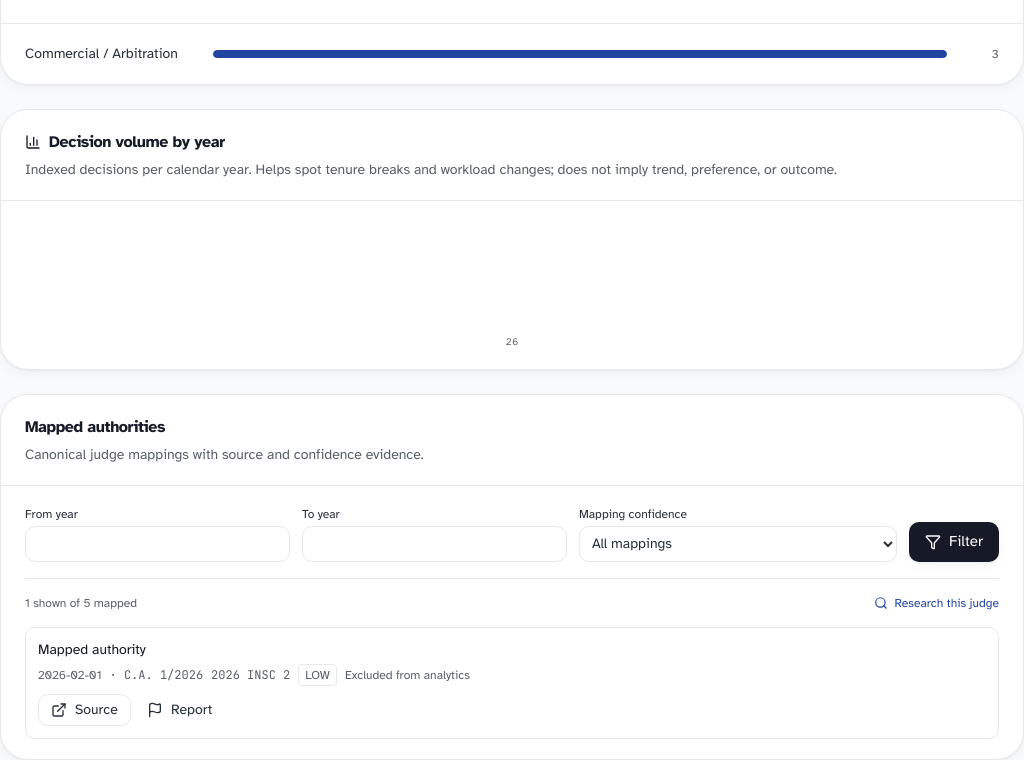
Test: JudgeProfilePage › applies authority filters through the canonical endpoint
(page scrolled)
Expected: the text "Mapped authority" is shown, [38,640,146,658]
Type "2025" into the number field labelled "From year" at (158, 544), box [25,526,290,562]
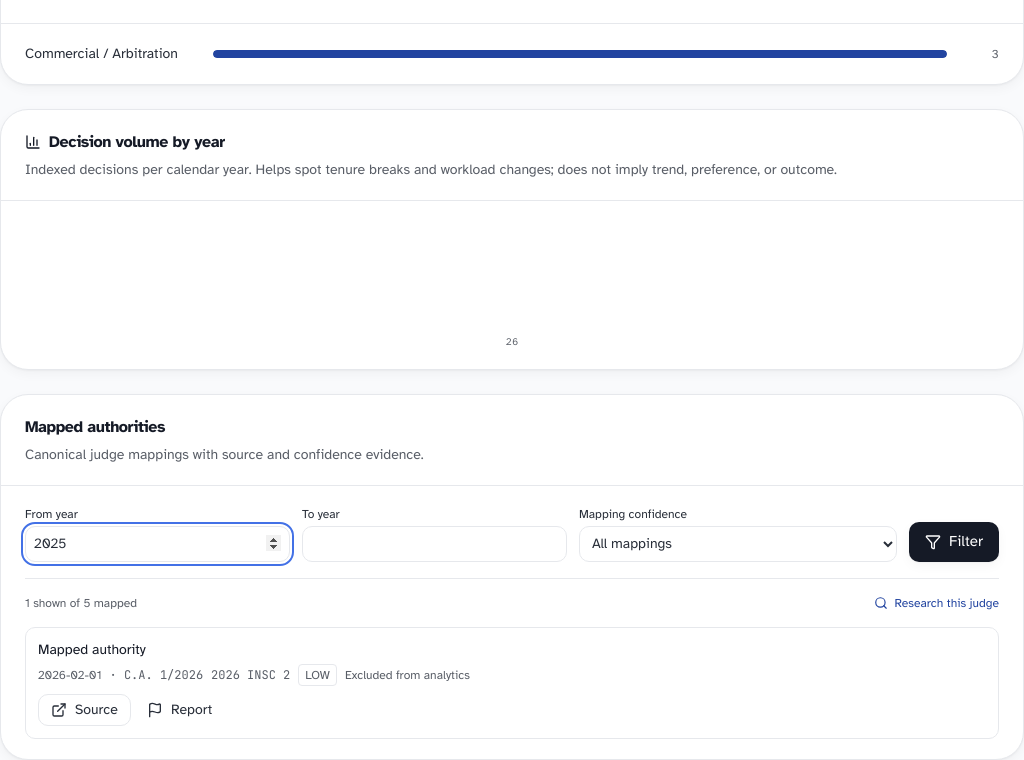
Type "2025" into the number field labelled "To year" at (434, 544), box [302,526,567,562]
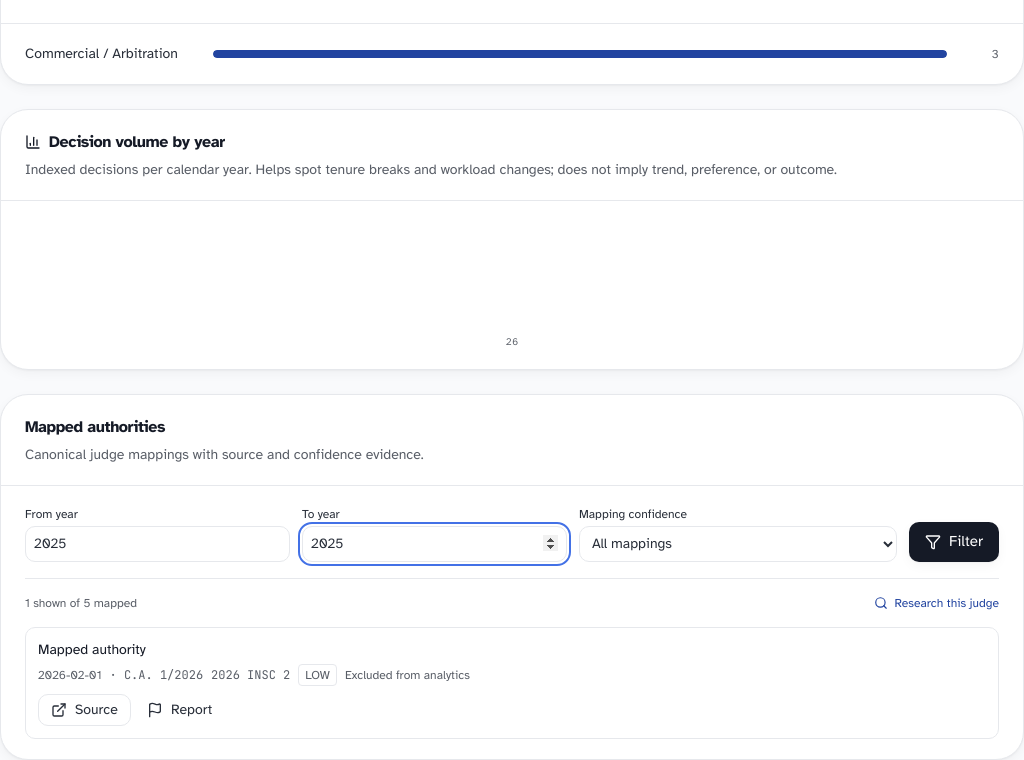
Select "Exact" in the dropdown labelled "Mapping confidence" at (738, 544), box [579,526,897,562]
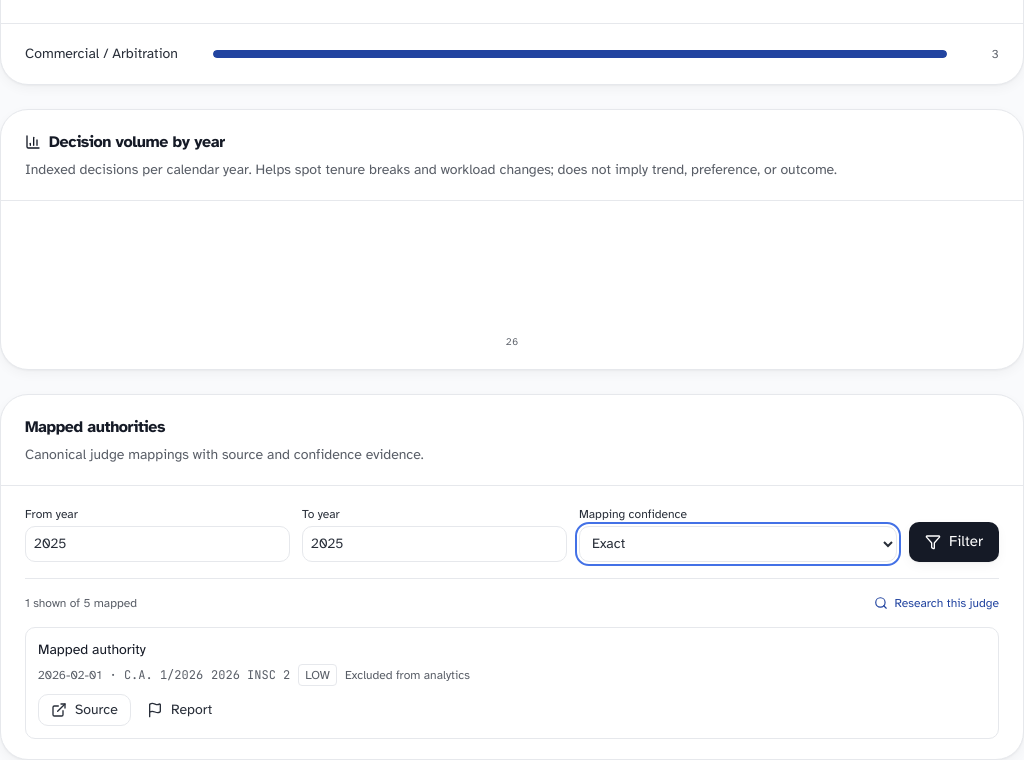
Click the button "Filter" at (954, 542), box [909,522,999,562]
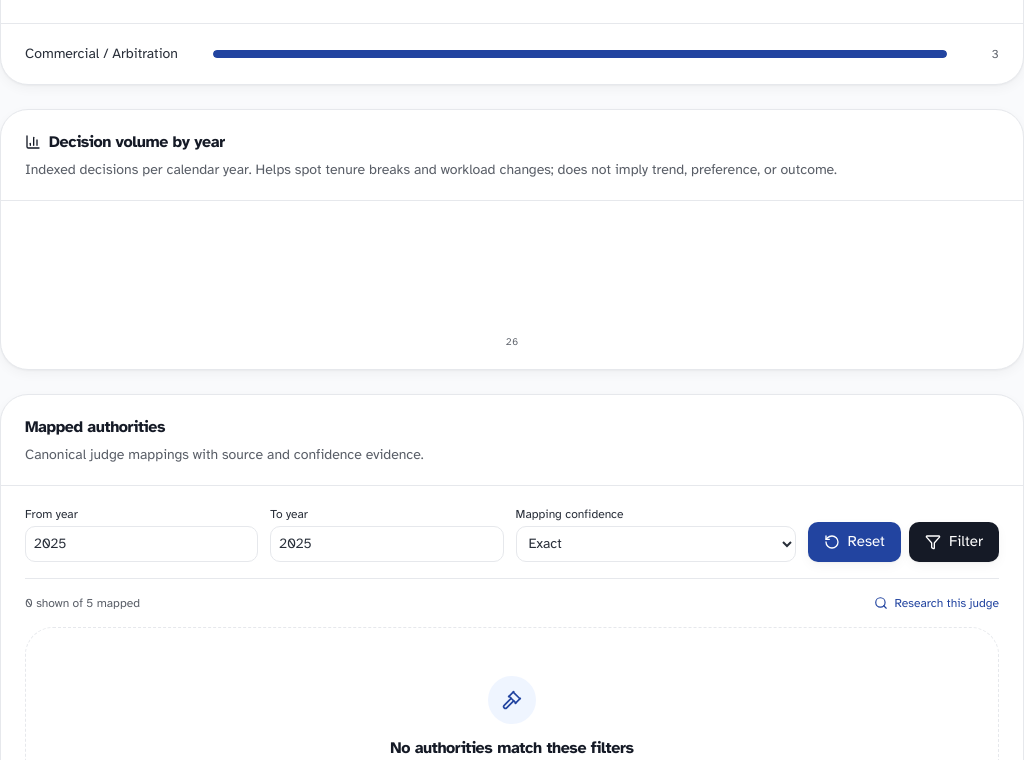
Now the heading "No authorities match these filters" is shown, box [390,736,634,759]
